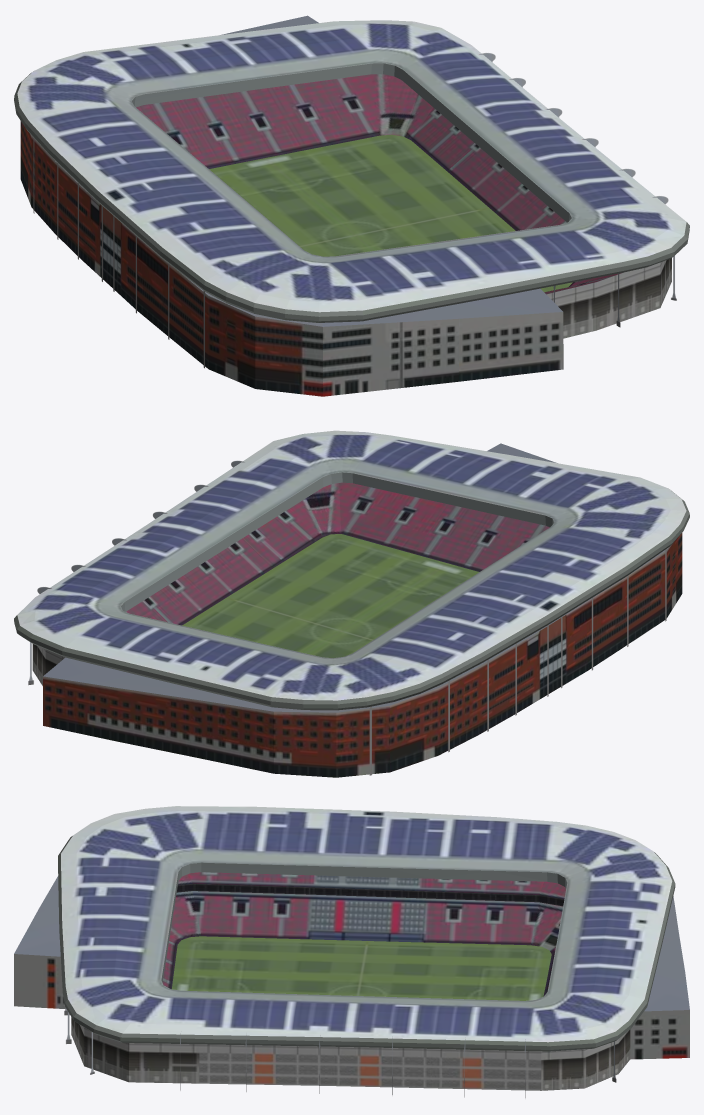
The model's file is eden-arena.glb.
3 views of the same model, one above another, from view 1: azimuth 30°, elevation 25°; view 2: azimuth 150°, elevation 25°; view 3: azimuth 270°, elevation 25° (orthographic). The views are drawn at different scales.
Parts seen in each view (by area): view 1: S_S_0; view 2: S_S_0; view 3: S_S_0.
Boxes of the visible parts, <box> form: S_S_0: <box>14,15,689,396</box>; S_S_0: <box>14,430,689,777</box>; S_S_0: <box>14,806,689,1098</box>.
Bounding box in the file's own units: 156 × 28.21 × 208.
Materials: 1 (1 with a texture image).
